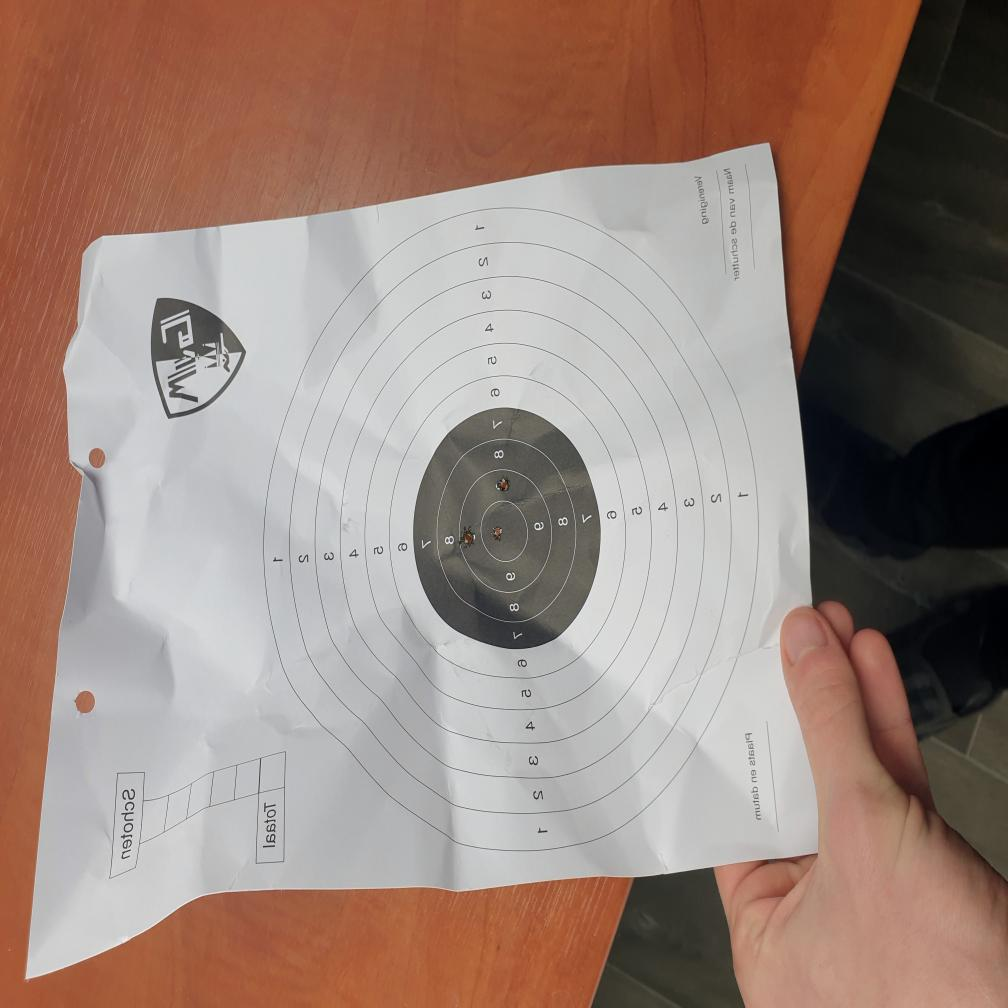10: (490, 524, 503, 541)
9: (458, 526, 476, 550), (496, 476, 510, 493)
Target: (266, 209, 760, 858)
black_contour: (414, 406, 601, 649)
